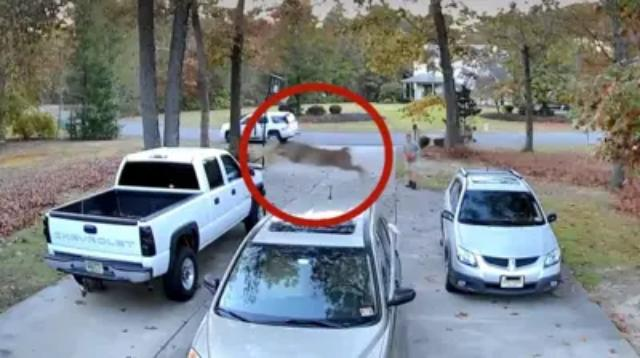car: (182, 196, 409, 358), (430, 158, 576, 306), (221, 110, 300, 145)
pickup-truck: (35, 142, 263, 308)
